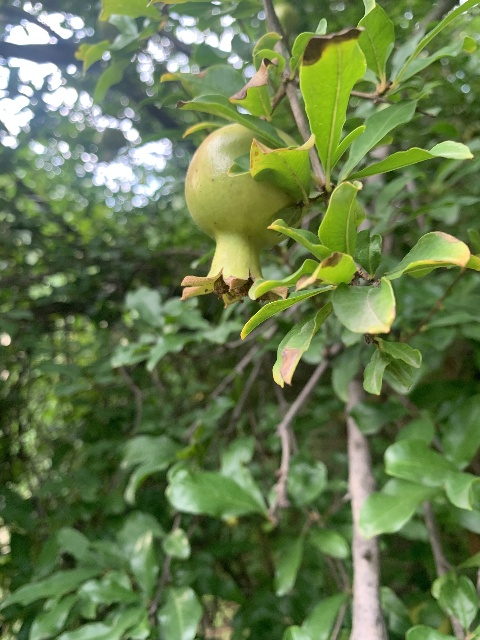mid-growth: (179, 122, 302, 308)
